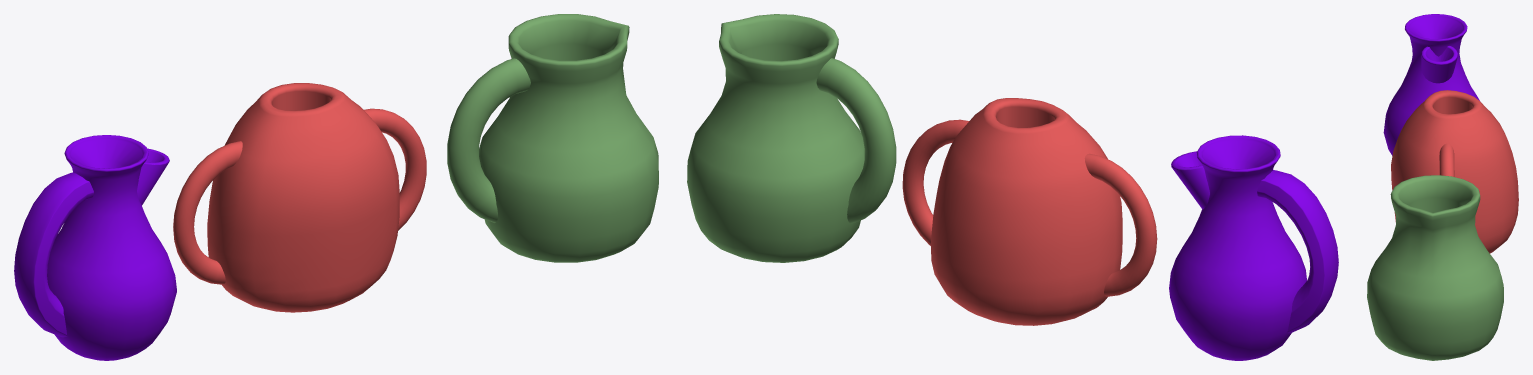
File: Jugs_FBX.fbx
The picture shows the model from 3 angles, left to right: view 1: azimuth 30°, elevation 25°; view 2: azimuth 150°, elevation 25°; view 3: azimuth 270°, elevation 25°; orthographic projection. The views are drawn at different scales.
Parts seen in each view (by area): view 1: JUG_2, JUG_3, JUG_1; view 2: JUG_2, JUG_3, JUG_1; view 3: JUG_3, JUG_2, JUG_1.
Part boxes in pixels (x1,y1,x2,y2): JUG_2: (173, 83, 426, 312); JUG_3: (447, 14, 658, 262); JUG_1: (14, 135, 176, 360); JUG_2: (902, 98, 1157, 325); JUG_3: (687, 14, 896, 262); JUG_1: (1169, 135, 1338, 360); JUG_3: (1367, 175, 1503, 360); JUG_2: (1391, 90, 1518, 253); JUG_1: (1383, 14, 1479, 155).
Size of the model in its own units: 118 by 33 by 36.15.
